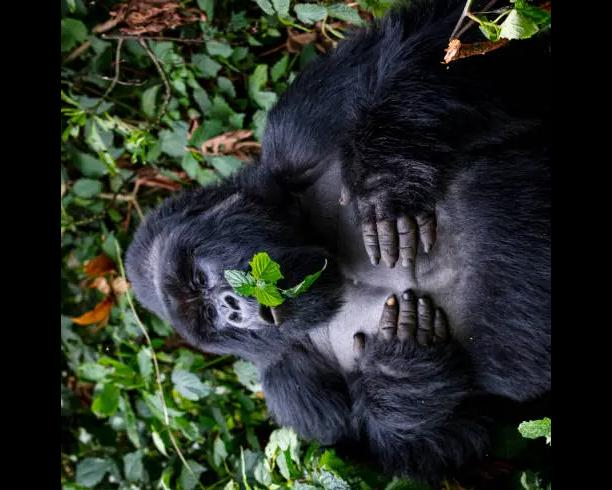goriile_montagne: (111, 0, 551, 459)
